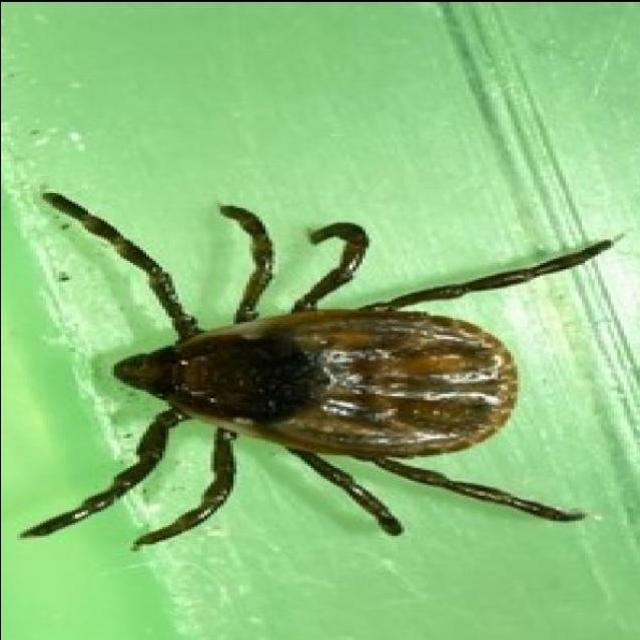Rhipicephalus Sanguineus-F: (16, 187, 613, 546)
